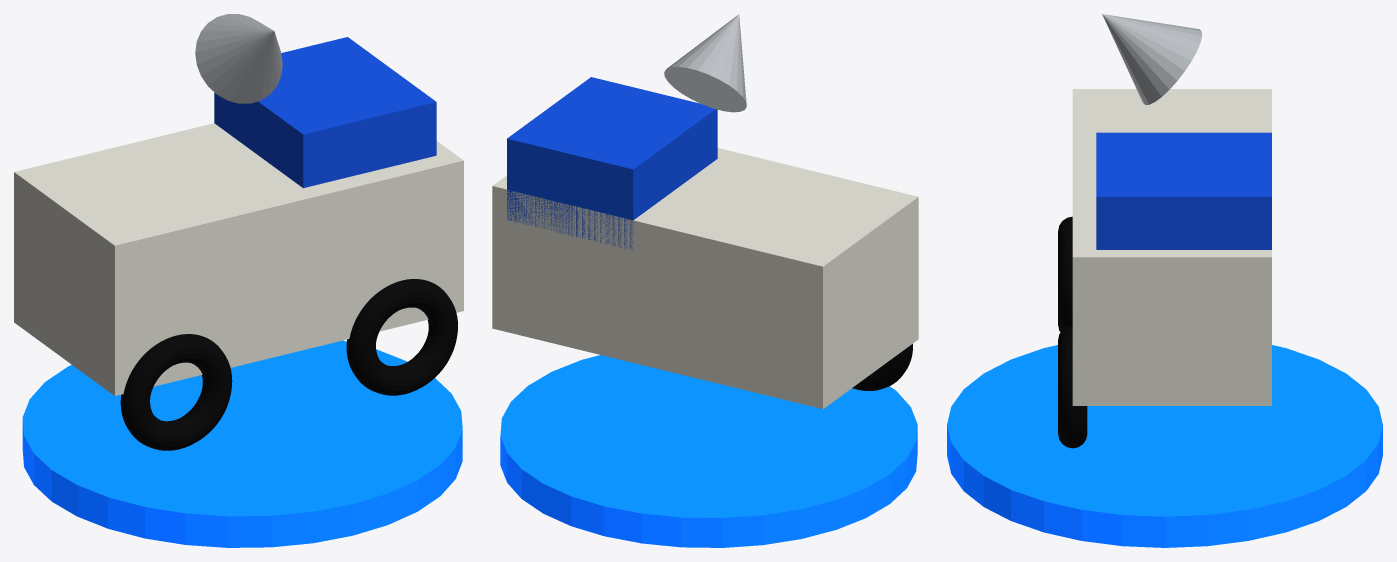
File: news_news_van.dae
3 renders of one model, left to right at view 1: azimuth 30°, elevation 25°; view 2: azimuth 150°, elevation 25°; view 3: azimuth 270°, elevation 25°, orthographic. The views are drawn at different scales.
Parts seen in each view (by area): view 1: 09_09_Popular_News_News_Van_part_01, 09_09_Popular_News_News_Van_ROOT_base, 09_09_Popular_News_News_Van_part_02, 09_09_Popular_News_News_Van_part_04, 09_09_Popular_News_News_Van_part_03, 09_09_Popular_News_News_Van_part_05; view 2: 09_09_Popular_News_News_Van_part_01, 09_09_Popular_News_News_Van_ROOT_base, 09_09_Popular_News_News_Van_part_02, 09_09_Popular_News_News_Van_part_05, 09_09_Popular_News_News_Van_part_03; view 3: 09_09_Popular_News_News_Van_ROOT_base, 09_09_Popular_News_News_Van_part_01, 09_09_Popular_News_News_Van_part_02, 09_09_Popular_News_News_Van_part_05, 09_09_Popular_News_News_Van_part_04, 09_09_Popular_News_News_Van_part_03.
Part boxes in pixels (x1,y1,x2,y2): 09_09_Popular_News_News_Van_part_01: [14, 123, 463, 395]; 09_09_Popular_News_News_Van_ROOT_base: [22, 340, 462, 547]; 09_09_Popular_News_News_Van_part_02: [214, 37, 436, 188]; 09_09_Popular_News_News_Van_part_04: [346, 279, 457, 395]; 09_09_Popular_News_News_Van_part_03: [120, 334, 232, 450]; 09_09_Popular_News_News_Van_part_05: [195, 14, 282, 103]; 09_09_Popular_News_News_Van_part_01: [492, 148, 918, 408]; 09_09_Popular_News_News_Van_ROOT_base: [500, 355, 917, 547]; 09_09_Popular_News_News_Van_part_02: [507, 77, 717, 249]; 09_09_Popular_News_News_Van_part_05: [664, 14, 746, 112]; 09_09_Popular_News_News_Van_part_03: [852, 344, 912, 390]; 09_09_Popular_News_News_Van_ROOT_base: [947, 345, 1382, 547]; 09_09_Popular_News_News_Van_part_01: [1072, 89, 1271, 405]; 09_09_Popular_News_News_Van_part_02: [1096, 132, 1271, 249]; 09_09_Popular_News_News_Van_part_05: [1102, 14, 1202, 104]; 09_09_Popular_News_News_Van_part_04: [1058, 325, 1087, 448]; 09_09_Popular_News_News_Van_part_03: [1058, 216, 1072, 331].
Size of the model in its own units: 0.76 by 0.85 by 0.76.
